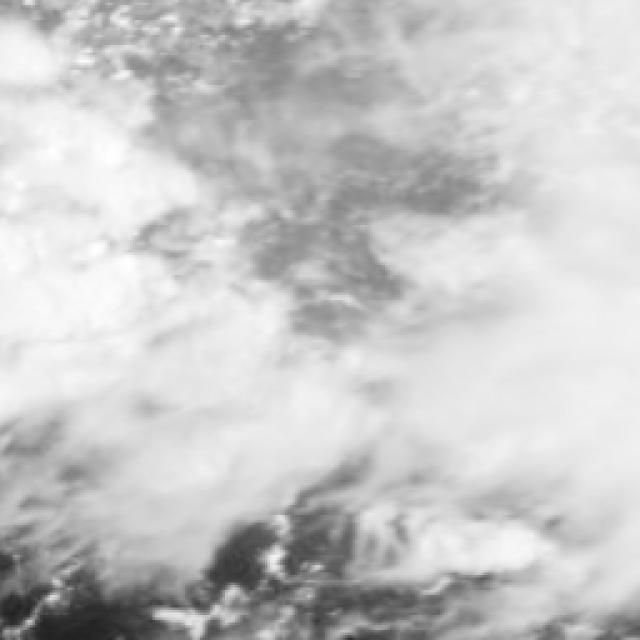CB: (0, 130, 173, 444), (545, 0, 640, 500), (445, 341, 640, 442)
